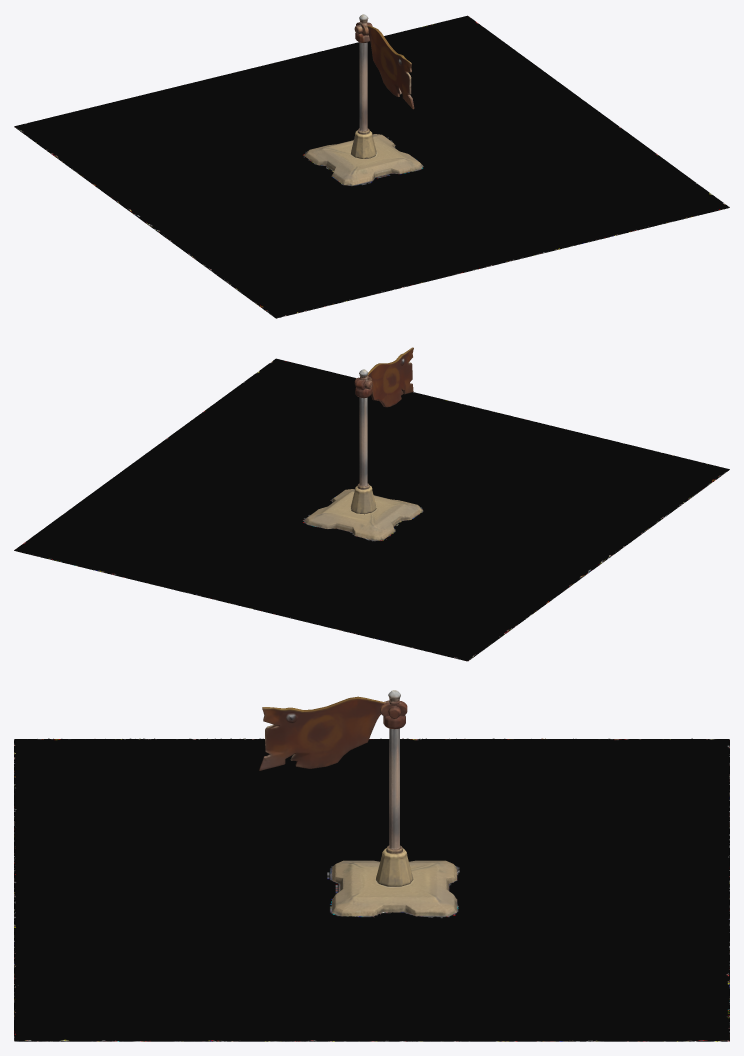
The model's file is dekor-05.glb.
3 views of the same model, one above another, from view 1: azimuth 30°, elevation 25°; view 2: azimuth 150°, elevation 25°; view 3: azimuth 270°, elevation 25° (orthographic). The views are drawn at different scales.
Parts seen in each view (by area): view 1: geometry_0; view 2: geometry_0; view 3: geometry_0.
Part boxes in pixels (x1=…): geometry_0: x1=14, y1=14, x2=729, y2=318; geometry_0: x1=14, y1=347, x2=729, y2=661; geometry_0: x1=14, y1=690, x2=729, y2=1041.
Size of the model in its own units: 0.9885 by 0.3042 by 0.9889.
Materials: 1 (1 with a texture image).
